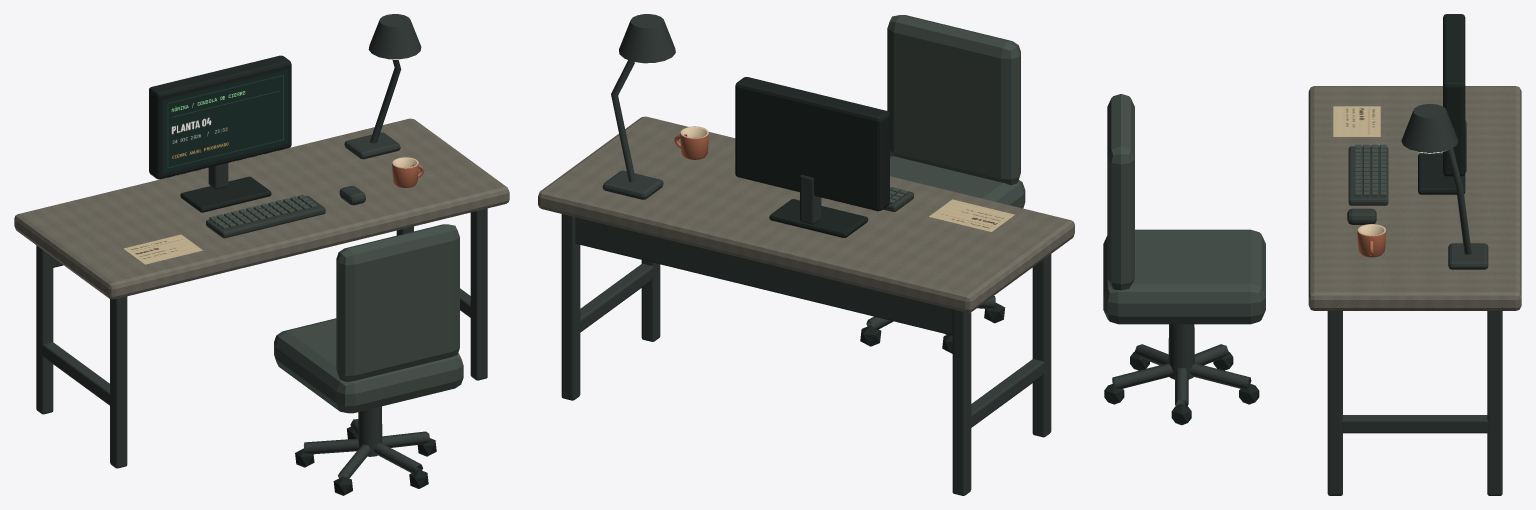
The model's file is workstation.glb.
3 views of the same model, side by side, from view 1: azimuth 30°, elevation 25°; view 2: azimuth 150°, elevation 25°; view 3: azimuth 270°, elevation 25° (orthographic). The views are drawn at different scales.
Visible parts, largest first — view 1: Desk_worktop, Chair_back, SCREEN_SURFACE, Chair_seat, Monitor_housing, Desk_leg.001, Desk_leg.003, Desk_leg, LAMP_SHADE, Monitor_foot, Keyboard_keys, Desk_side_rail (+9 smaller); view 2: Desk_worktop, Chair_back, Monitor_housing, Desk_apron, Desk_leg, Desk_leg.002, Desk_leg.001, Chair_seat, LAMP_SHADE, Monitor_foot, Desk_side_rail.001, Desk_side_rail (+6 smaller); view 3: Desk_worktop, Chair_seat, Chair_back, Monitor_housing, Desk_leg.003, Desk_leg.002, Desk_side_rail.001, LAMP_SHADE, Keyboard_keys, NOTE_CURRENT, Monitor_foot, Keyboard_body (+10 smaller).
Boxes of the visible parts, left/top/right/bottom form: Desk_worktop: left=14, top=118, right=509, bottom=299; Chair_back: left=336, top=224, right=459, bottom=381; SCREEN_SURFACE: left=163, top=69, right=288, bottom=173; Chair_seat: left=274, top=318, right=463, bottom=413; Monitor_housing: left=149, top=55, right=291, bottom=179; Desk_leg.001: left=110, top=296, right=127, bottom=468; Desk_leg.003: left=470, top=208, right=487, bottom=380; Desk_leg: left=36, top=245, right=53, bottom=414; LAMP_SHADE: left=368, top=14, right=421, bottom=59; Monitor_foot: left=180, top=176, right=271, bottom=212; Keyboard_keys: left=209, top=194, right=317, bottom=229; Desk_side_rail: left=42, top=342, right=110, bottom=405; Desk_worktop: left=538, top=116, right=1074, bottom=312; Chair_back: left=887, top=15, right=1020, bottom=185; Monitor_housing: left=735, top=77, right=889, bottom=211; Desk_apron: left=575, top=217, right=952, bottom=335; Desk_leg: left=952, top=309, right=971, bottom=495; Desk_leg.002: left=561, top=214, right=580, bottom=400; Desk_leg.001: left=1032, top=254, right=1051, bottom=437; Chair_seat: left=890, top=155, right=1025, bottom=208; LAMP_SHADE: left=619, top=14, right=675, bottom=63; Monitor_foot: left=769, top=199, right=868, bottom=237; Desk_side_rail.001: left=580, top=263, right=654, bottom=332; Desk_side_rail: left=971, top=359, right=1044, bottom=427; Desk_worktop: left=1308, top=86, right=1521, bottom=310; Chair_seat: left=1103, top=229, right=1265, bottom=324; Chair_back: left=1107, top=94, right=1134, bottom=290; Monitor_housing: left=1443, top=14, right=1465, bottom=176; Desk_leg.003: left=1327, top=311, right=1342, bottom=495; Desk_leg.002: left=1487, top=311, right=1502, bottom=495; Desk_side_rail.001: left=1341, top=415, right=1488, bottom=433; LAMP_SHADE: left=1401, top=104, right=1458, bottom=152; Keyboard_keys: left=1355, top=144, right=1386, bottom=196; NOTE_CURRENT: left=1333, top=106, right=1380, bottom=136; Monitor_foot: left=1418, top=153, right=1465, bottom=194; Keyboard_body: left=1348, top=146, right=1388, bottom=205.
Bounding box in the file's own units: 1.69 × 1.35 × 1.41.
Materials: 11 (3 with a texture image).
